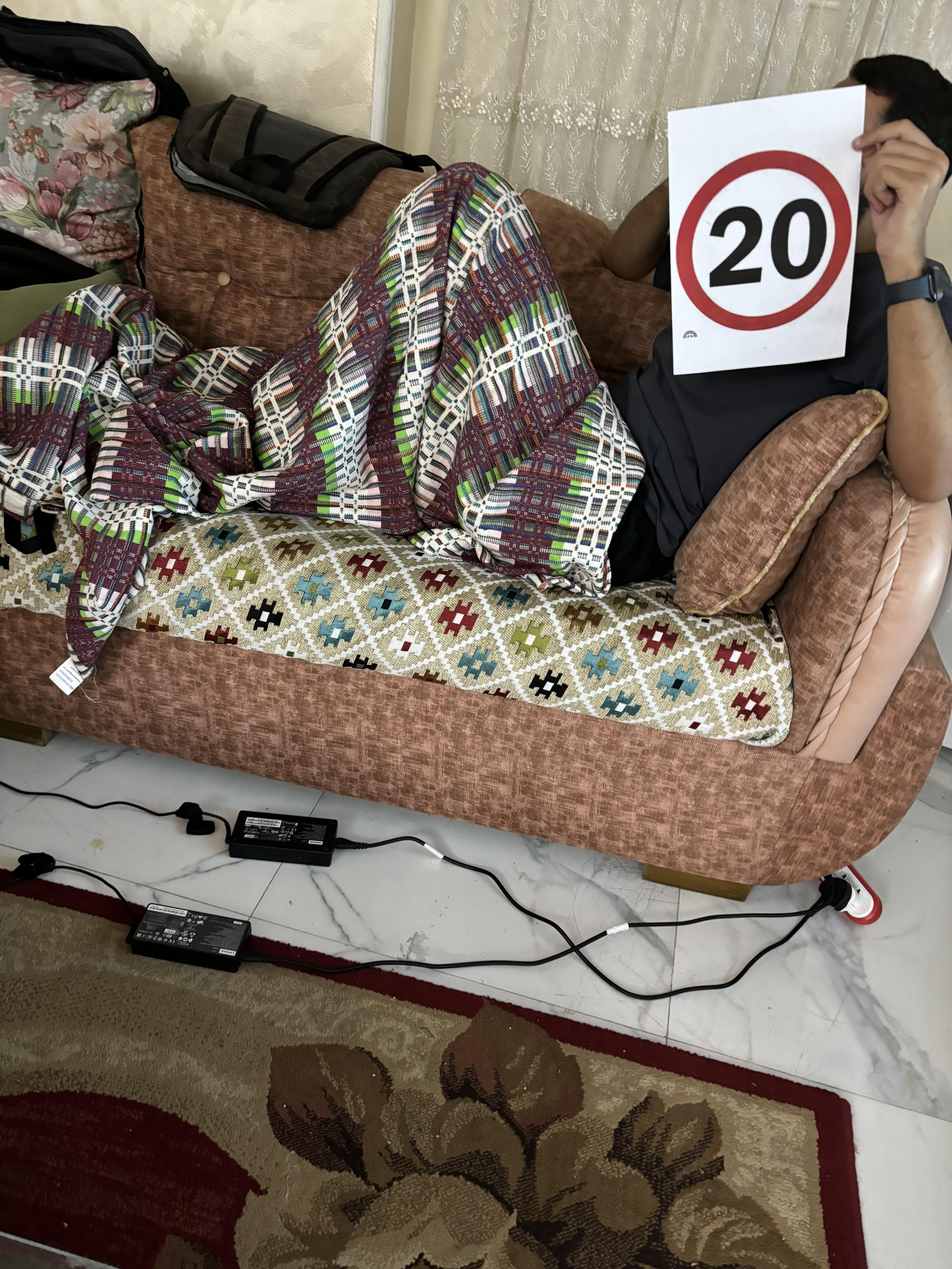20-Speed: (673, 147, 865, 335)
